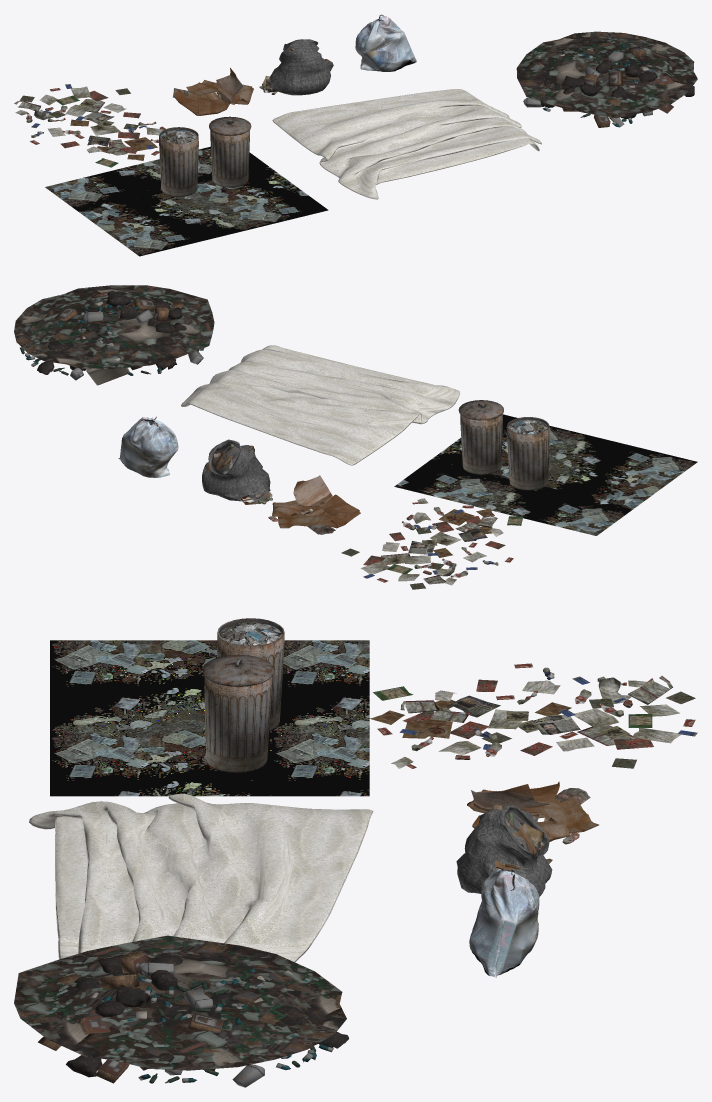
The model's file is garbage_pack.glb.
3 renders of one model, top to bottom at view 1: azimuth 30°, elevation 25°; view 2: azimuth 150°, elevation 25°; view 3: azimuth 270°, elevation 25°, orthographic. The views are drawn at different scales.
Visible parts, largest first — view 1: Object_10, Object_9, Object_4, Object_12, Object_6, Object_7, Object_5, Object_2, Object_14, Object_13; view 2: Object_10, Object_9, Object_4, Object_12, Object_6, Object_7, Object_2, Object_5, Object_14, Object_13, Object_8; view 3: Object_10, Object_9, Object_4, Object_6, Object_12, Object_7, Object_2, Object_5, Object_14, Object_13.
Part boxes in pixels (box(x1,y1,x2,y2)): Object_10: box(272, 89, 541, 199); Object_9: box(45, 146, 328, 256); Object_4: box(516, 31, 697, 118); Object_12: box(159, 116, 251, 196); Object_6: box(14, 84, 165, 167); Object_7: box(523, 37, 694, 127); Object_5: box(269, 39, 333, 95); Object_2: box(355, 14, 416, 71); Object_14: box(172, 47, 294, 115); Object_13: box(186, 59, 331, 104); Object_10: box(181, 345, 460, 465); Object_9: box(394, 414, 697, 535); Object_4: box(14, 285, 214, 368); Object_12: box(458, 400, 549, 490); Object_6: box(341, 498, 522, 589); Object_7: box(20, 290, 204, 385); Object_2: box(118, 416, 178, 477); Object_5: box(202, 439, 270, 501); Object_14: box(213, 445, 360, 534); Object_13: box(206, 444, 324, 528); Object_8: box(211, 445, 268, 503); Object_10: box(29, 793, 373, 962); Object_9: box(50, 640, 369, 796); Object_4: box(14, 935, 346, 1070); Object_6: box(370, 663, 697, 768); Object_12: box(202, 618, 284, 772); Object_7: box(38, 951, 348, 1087); Object_2: box(469, 867, 539, 977); Object_5: box(456, 805, 552, 896); Object_14: box(467, 781, 590, 869); Object_13: box(472, 796, 598, 873).
Size of the model in its own units: 41.21 by 4.04 by 24.7.
13 materials, 11 textured.
